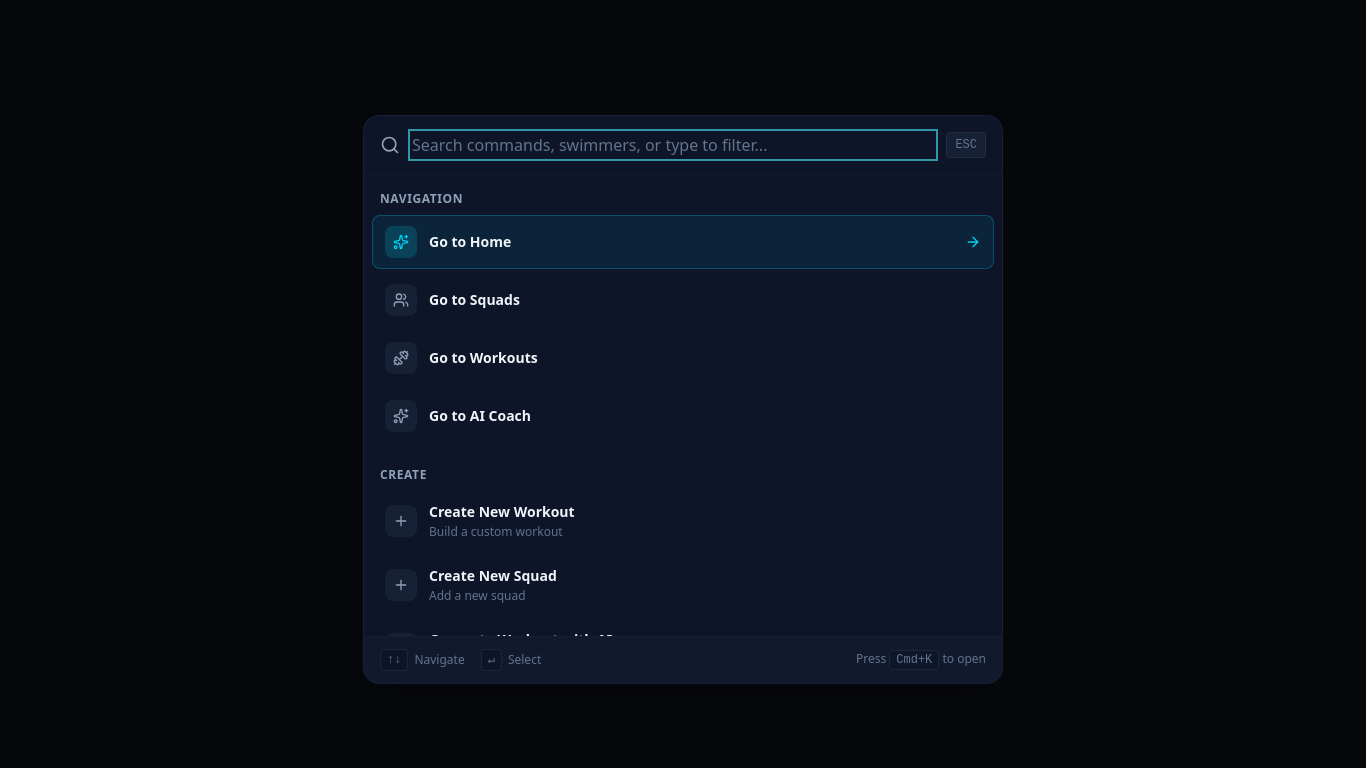
CommandPalette › shows "No commands found" when search has no results
The image size is (1366, 768).
Type "xyzzy-nonexistent-12345" into the field with placeholder "Search commands, swimmers, or type to filter..." at (673, 145), box [412,133,934,157]
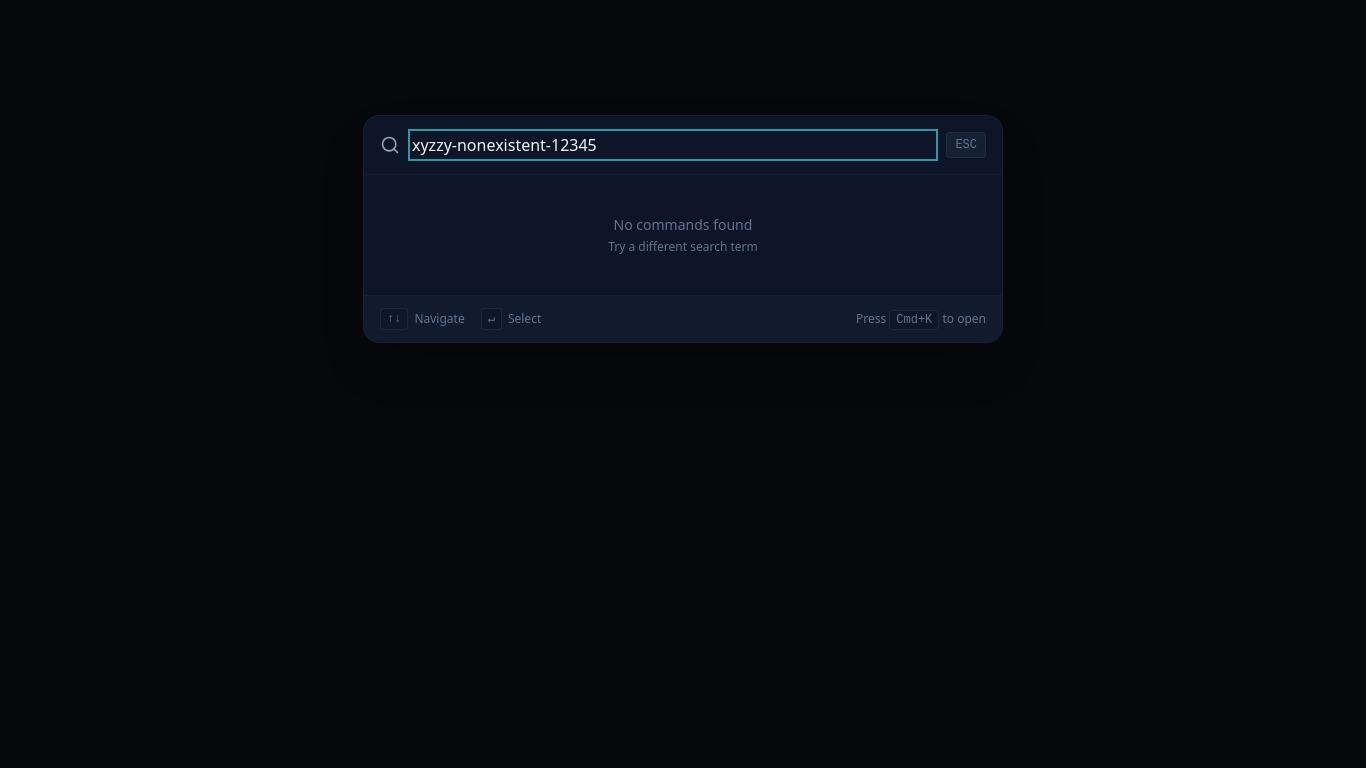
expect the text "No commands found" is shown: met, box [614,215,752,234]
